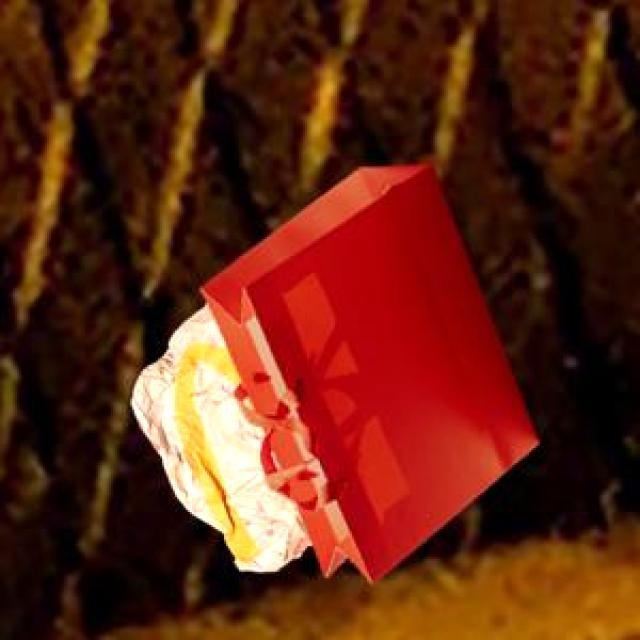Paper_Bag: (198, 161, 536, 579), (129, 300, 308, 568)
